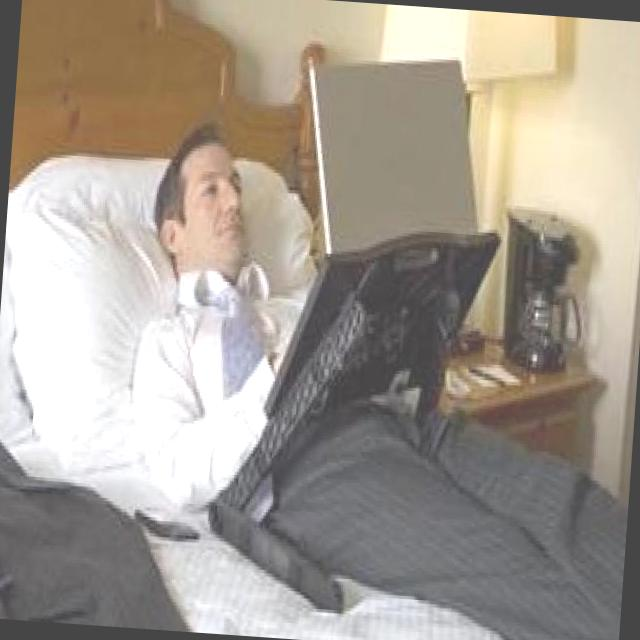no_vest: (112, 258, 324, 437)
